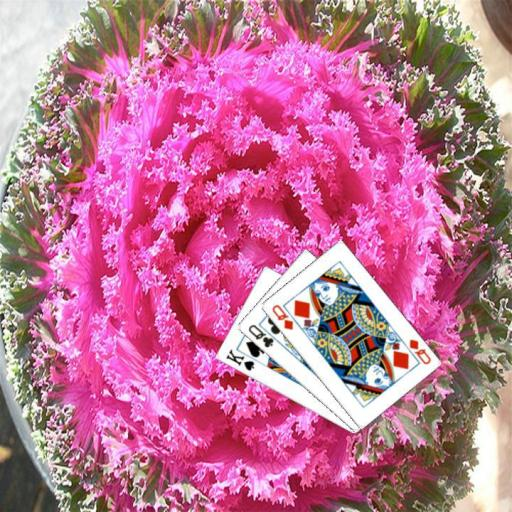KS: (223, 346, 255, 373)
QC: (245, 322, 275, 349)
QD: (406, 336, 433, 366), (268, 302, 294, 332)
